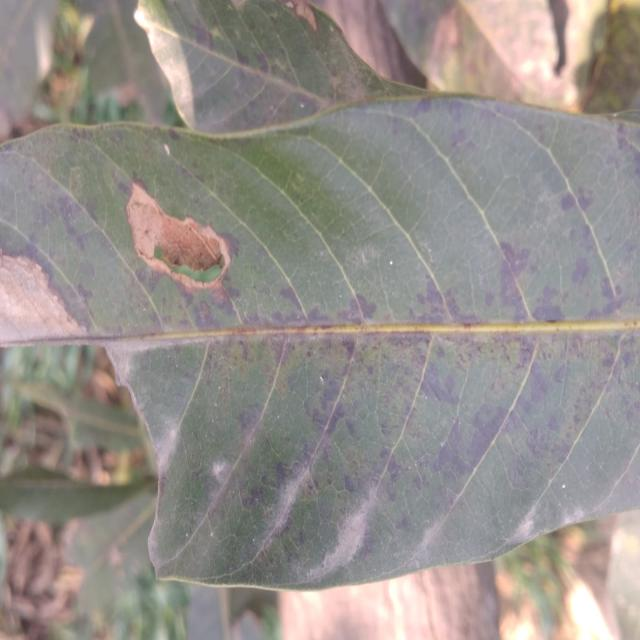Bacterial Cancer: (116, 169, 248, 317), (0, 239, 96, 350)
black die: (347, 284, 502, 378), (552, 183, 607, 303), (304, 359, 363, 449)
